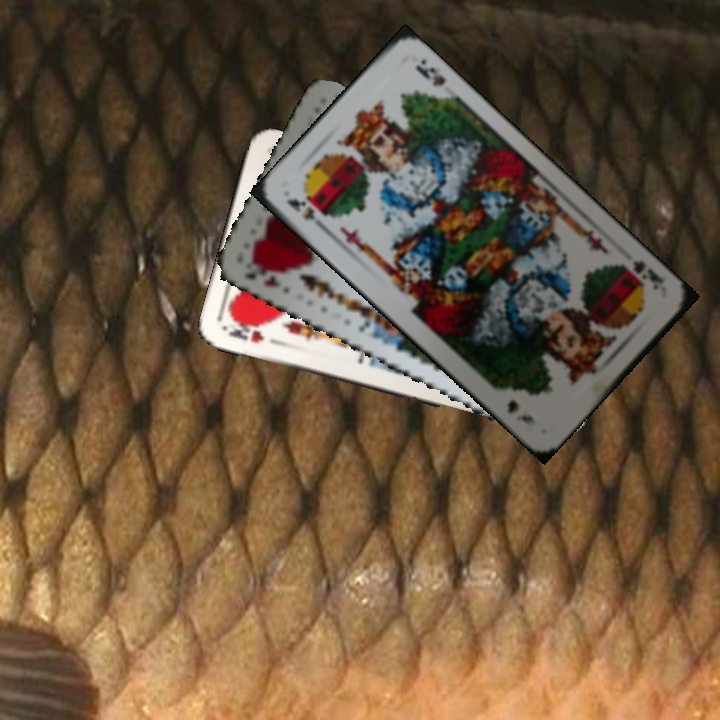HK: (222, 317, 281, 348), (240, 265, 283, 291)
SK: (282, 194, 331, 235), (629, 256, 667, 293)
